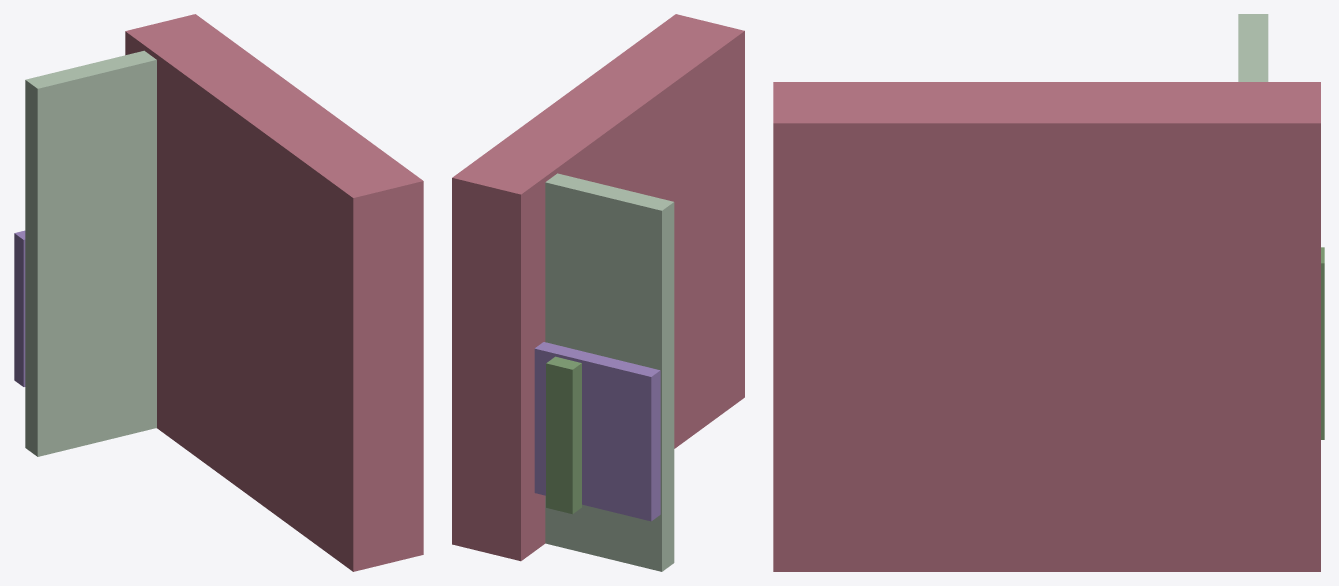
The picture shows the model from 3 angles, left to right: view 1: azimuth 30°, elevation 25°; view 2: azimuth 150°, elevation 25°; view 3: azimuth 270°, elevation 25°; orthographic projection. The views are drawn at different scales.
Visible parts, largest first — view 1: world; view 2: world; view 3: world.
Boxes of the visible parts, left/top/right/bottom form: world: left=14, top=14, right=423, bottom=571; world: left=452, top=14, right=744, bottom=571; world: left=773, top=14, right=1324, bottom=571.
Size of the model in its own units: 3.55 by 6.6 by 7.35.
